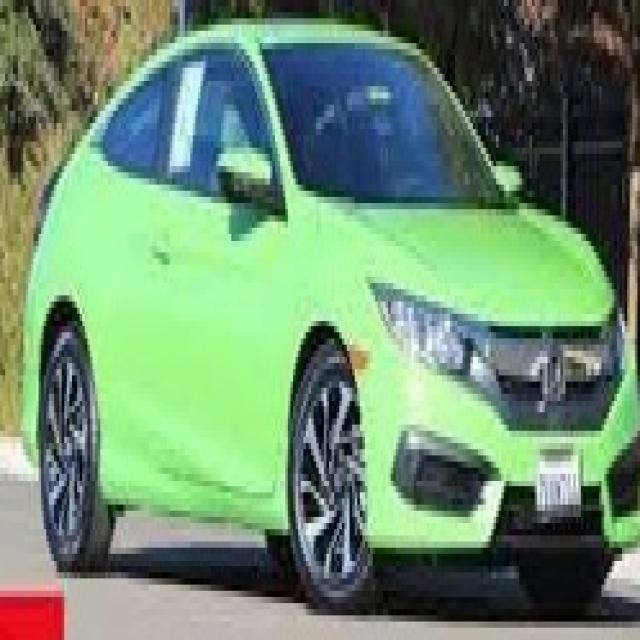green: (28, 18, 640, 640)
